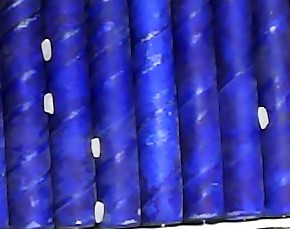broken_grain: (41, 91, 56, 115), (90, 135, 102, 160)
complete_grain: (257, 104, 270, 131), (93, 197, 105, 225), (40, 37, 53, 62)
